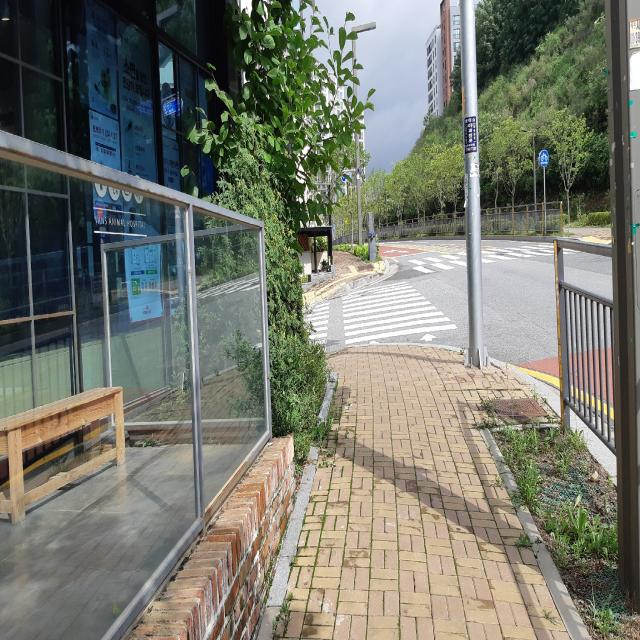횡단보도: (301, 280, 458, 356), (396, 235, 576, 276)
